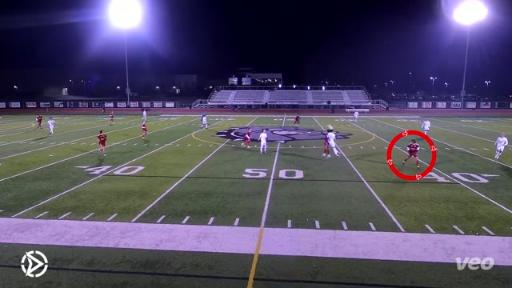highlight_overlay: (387, 128, 438, 181)
